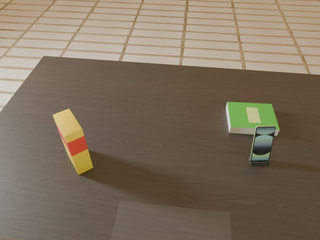book: (226, 102, 279, 136)
box: (53, 109, 93, 174)
phone: (250, 125, 276, 161)
